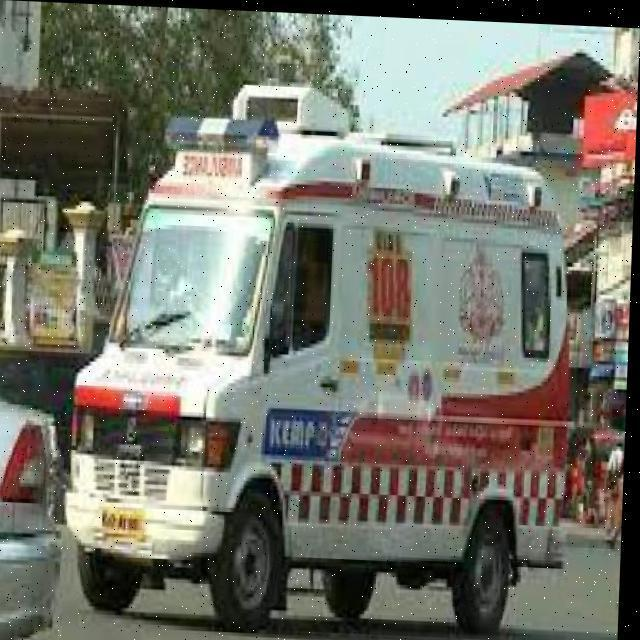Ambulance: (59, 70, 594, 640), (37, 503, 624, 640), (0, 371, 72, 640)
